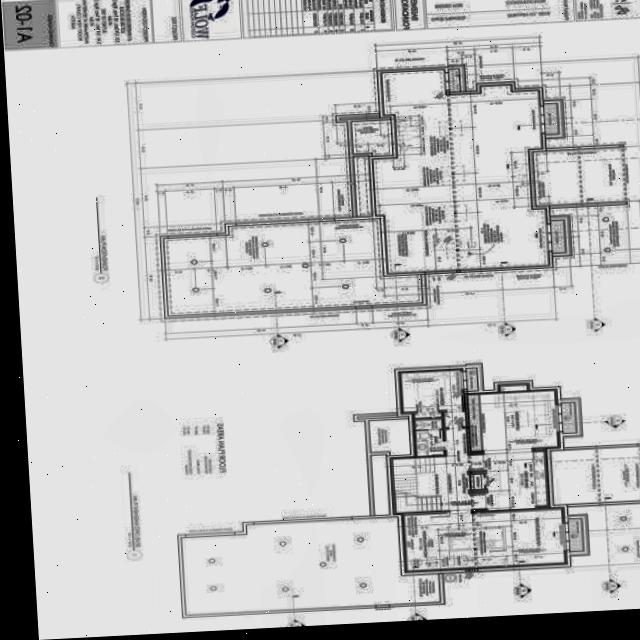room: (400, 370, 463, 413), (414, 419, 443, 457), (443, 412, 465, 428), (414, 412, 441, 418)
